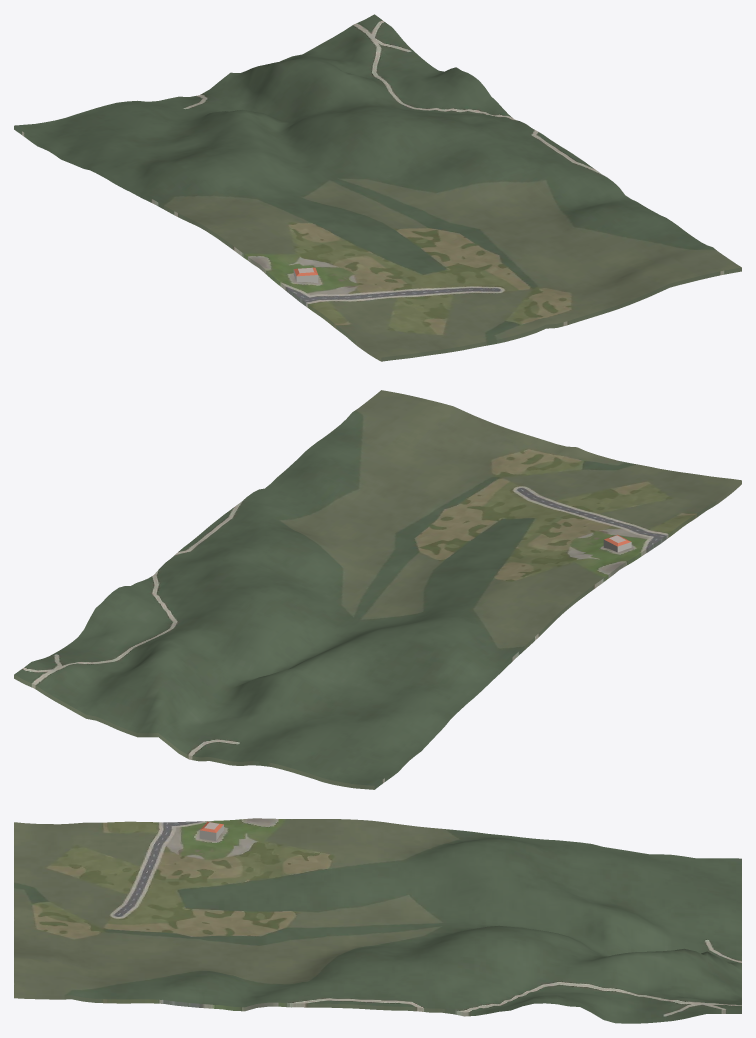
The picture shows the model from 3 angles, top to bottom: view 1: azimuth 30°, elevation 25°; view 2: azimuth 150°, elevation 25°; view 3: azimuth 270°, elevation 25°; orthographic projection.
Visible parts, largest first — view 1: terrain; view 2: terrain; view 3: terrain, buildings.
Boxes of the visible parts, <box> form: terrain: <box>14,14,741,361</box>; terrain: <box>14,390,741,789</box>; terrain: <box>14,818,741,1023</box>; buildings: <box>199,821,223,840</box>.
Size of the model in its own units: 283 by 47.91 by 500.
Materials: 2 (1 with a texture image).
